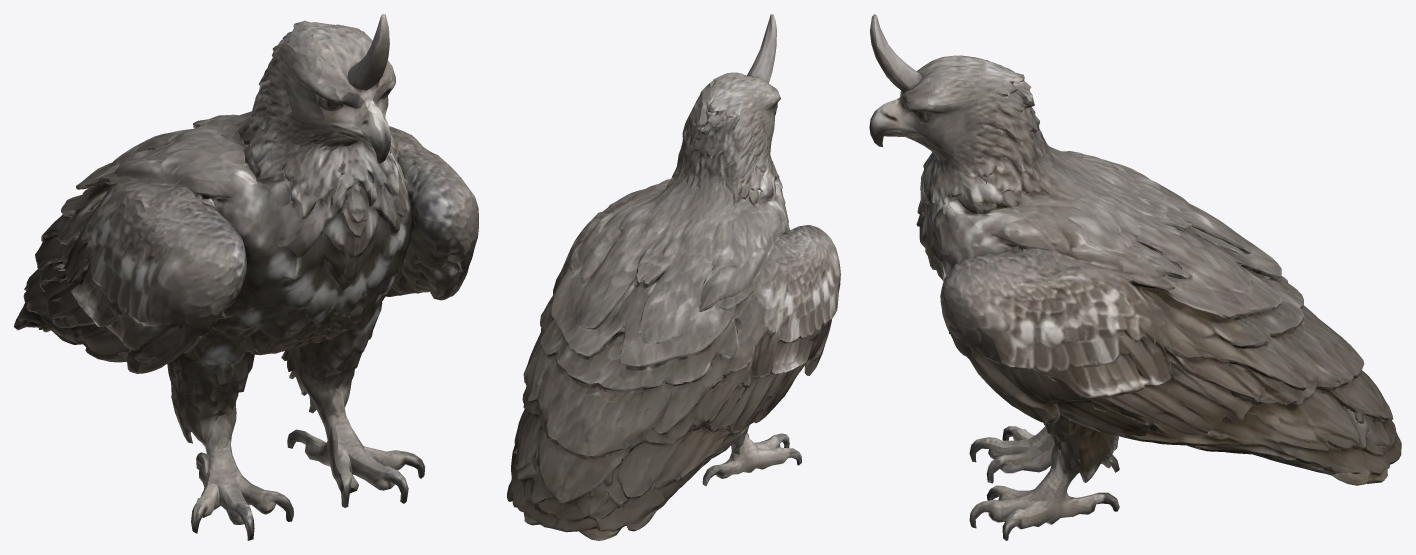
File: gudiao.glb
The picture shows the model from 3 angles, left to right: view 1: azimuth 30°, elevation 25°; view 2: azimuth 150°, elevation 25°; view 3: azimuth 270°, elevation 25°; orthographic projection. The views are drawn at different scales.
Visible parts, largest first — view 1: geometry_0; view 2: geometry_0; view 3: geometry_0.
Part boxes in pixels (<box>): geometry_0: <box>14,14,478,540</box>; geometry_0: <box>507,14,840,540</box>; geometry_0: <box>869,14,1401,540</box>.
Bounding box in the file's own units: 0.9 × 1.42 × 1.43.
Materials: 1 (1 with a texture image).
